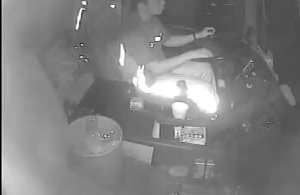paper: (151, 119, 208, 147)
